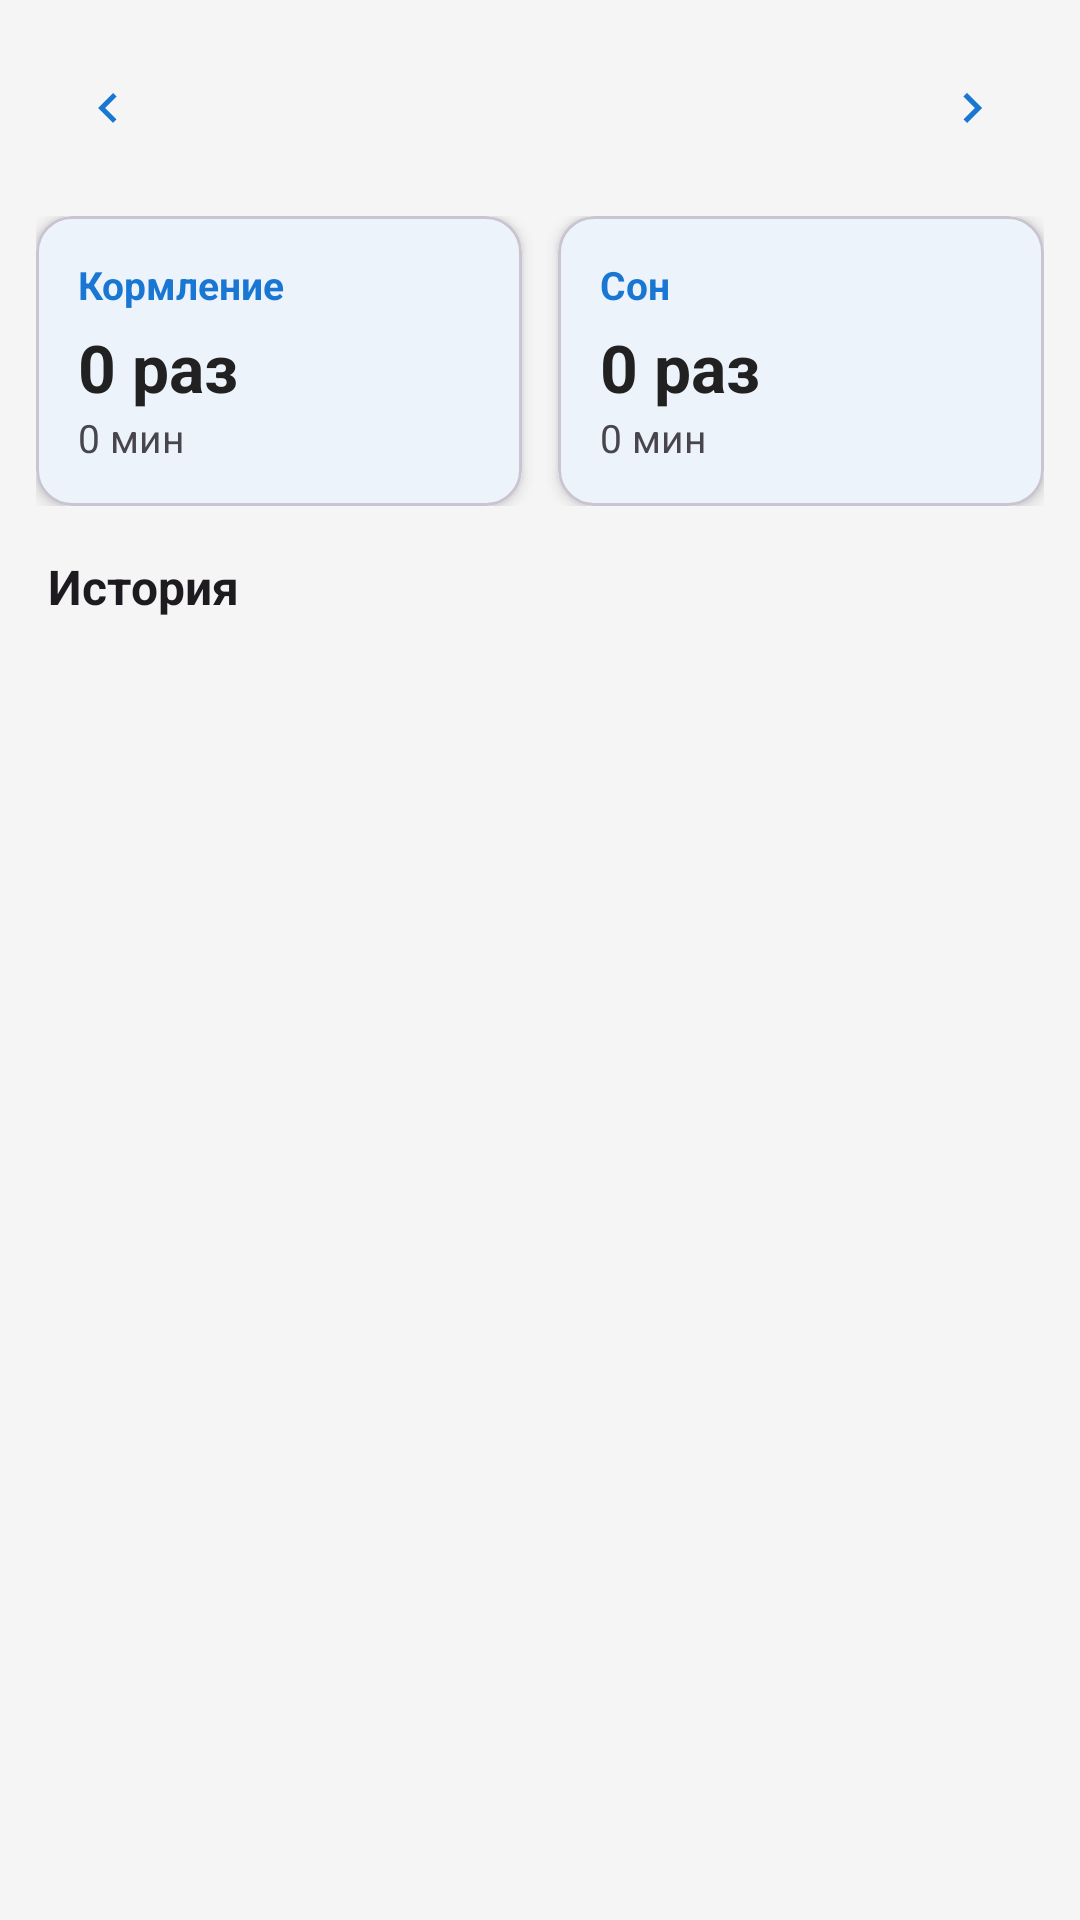

Where to tap for icons on this 1080x1920 app screen, as (x,y):
arrow left: (107,108)
arrow right: (972,108)
